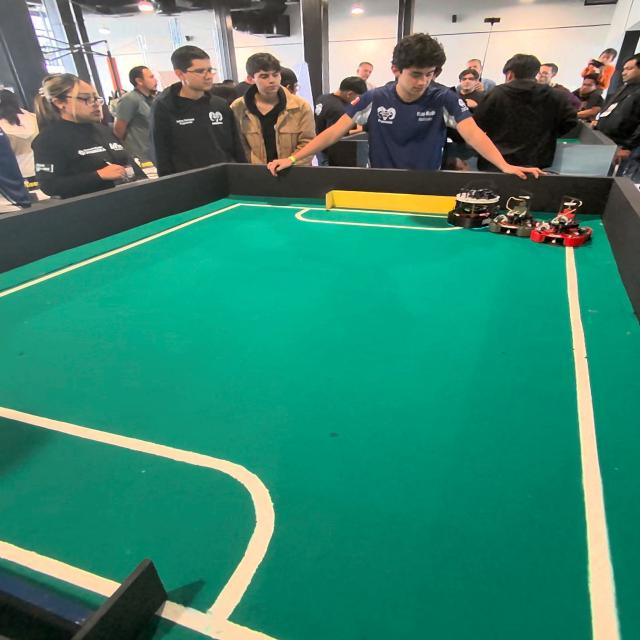Robot: (447, 177, 502, 232), (541, 194, 592, 248), (499, 186, 537, 238)
